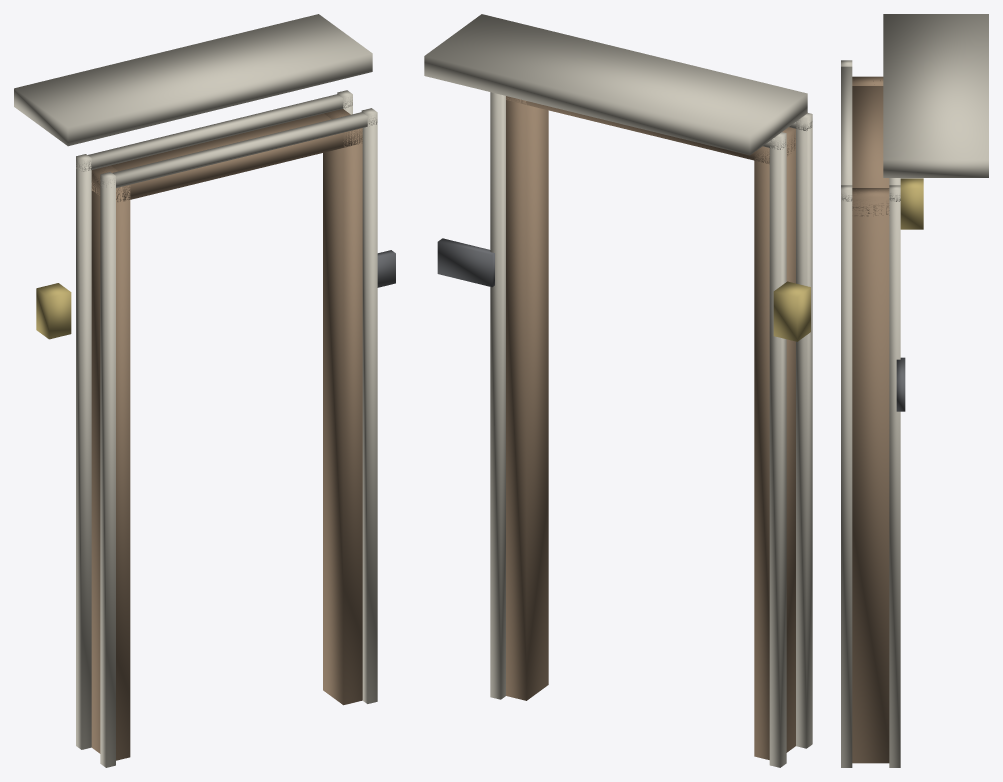
File: doorway_motel_w96_h240_d16.glb
The picture shows the model from 3 angles, left to right: view 1: azimuth 30°, elevation 25°; view 2: azimuth 150°, elevation 25°; view 3: azimuth 270°, elevation 25°; orthographic projection. The views are drawn at different scales.
Visible parts, largest first — view 1: world; view 2: world; view 3: world.
Boxes of the visible parts, x1,y1,x2,y2 form: world: (14, 14, 395, 767); world: (424, 14, 812, 767); world: (841, 14, 988, 767).
Bounding box in the file's own units: 1.56 × 2.71 × 0.5882.
